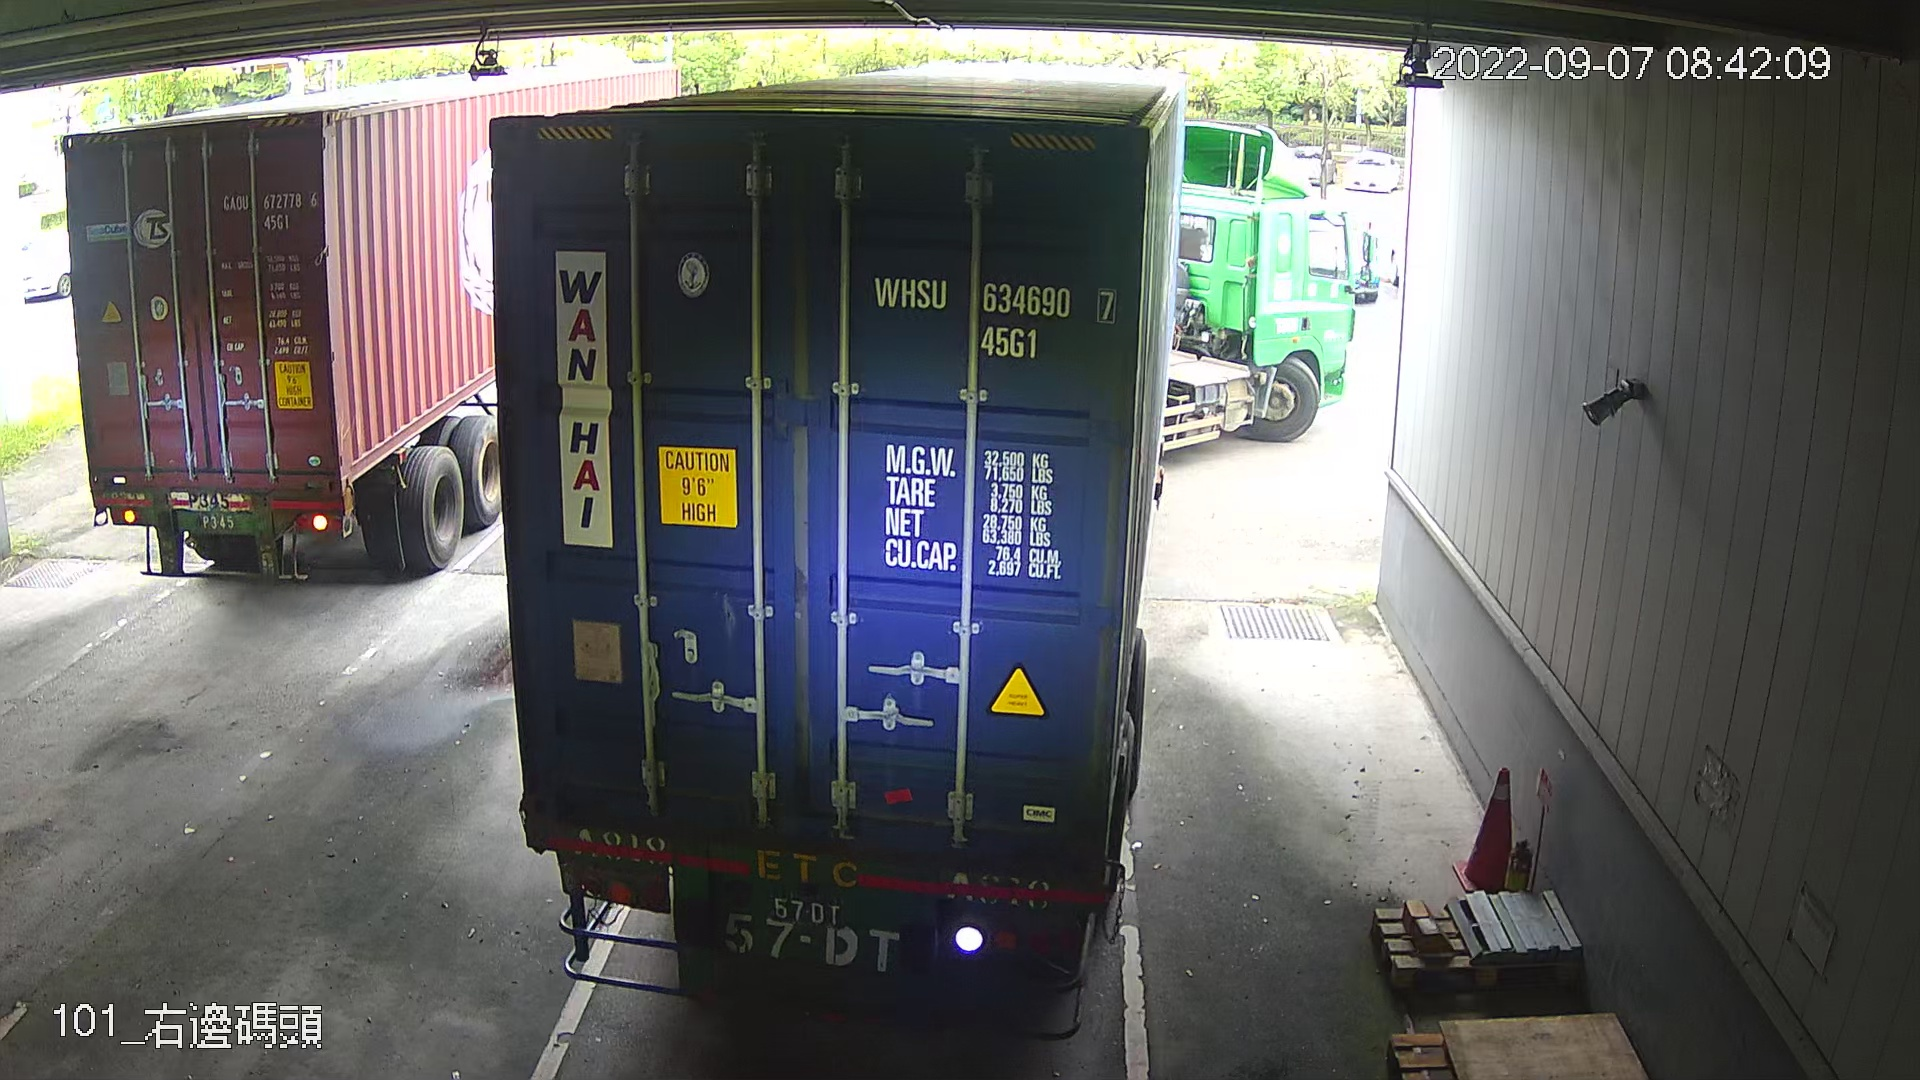container: (866, 261, 1127, 367)
